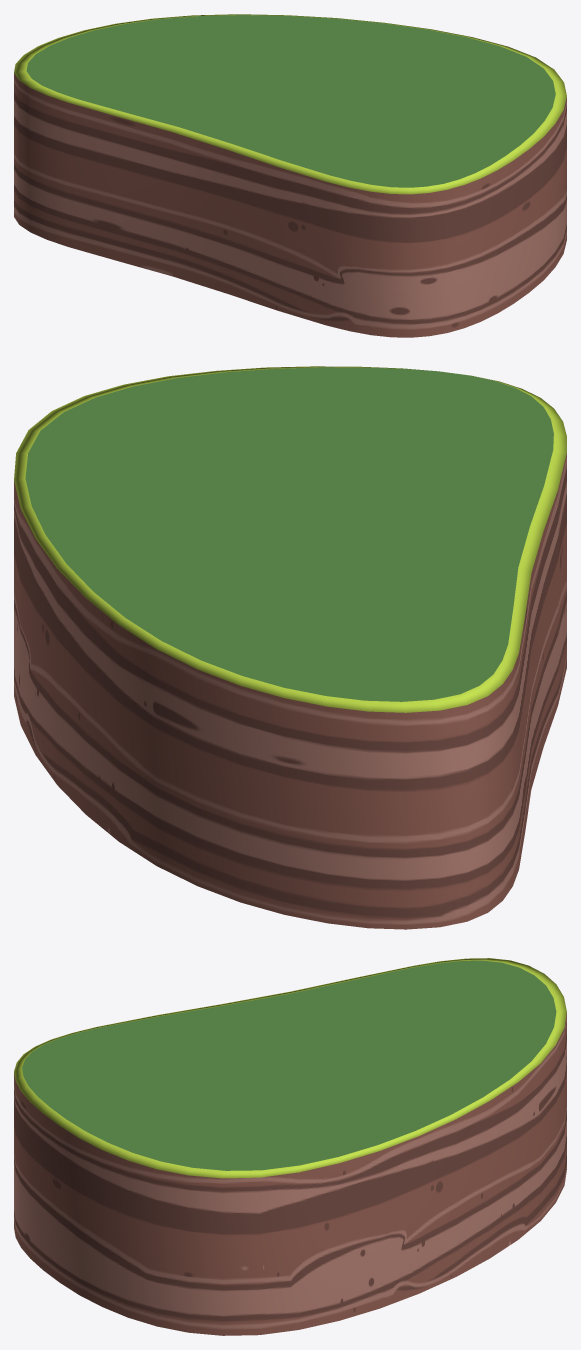
The model's file is grasschunk3.glb.
3 views of the same model, one above another, from view 1: azimuth 30°, elevation 25°; view 2: azimuth 150°, elevation 25°; view 3: azimuth 270°, elevation 25° (orthographic). The views are drawn at different scales.
Parts seen in each view (by area): view 1: Plate_Curved_Var16_13_Forest_mat_01_0; view 2: Plate_Curved_Var16_13_Forest_mat_01_0; view 3: Plate_Curved_Var16_13_Forest_mat_01_0.
Boxes of the visible parts, x1,y1,x2,y2 form: Plate_Curved_Var16_13_Forest_mat_01_0: (14, 14, 566, 337); Plate_Curved_Var16_13_Forest_mat_01_0: (14, 366, 566, 929); Plate_Curved_Var16_13_Forest_mat_01_0: (14, 958, 566, 1335).
Size of the model in its own units: 0.0951 by 0.0322 by 0.1009.
Materials: 1 (1 with a texture image).
